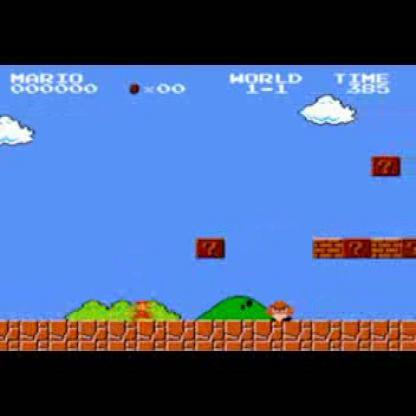Goomba: (268, 298, 293, 323)
